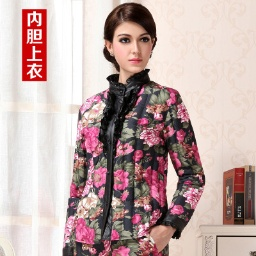face: (98, 3, 161, 76)
